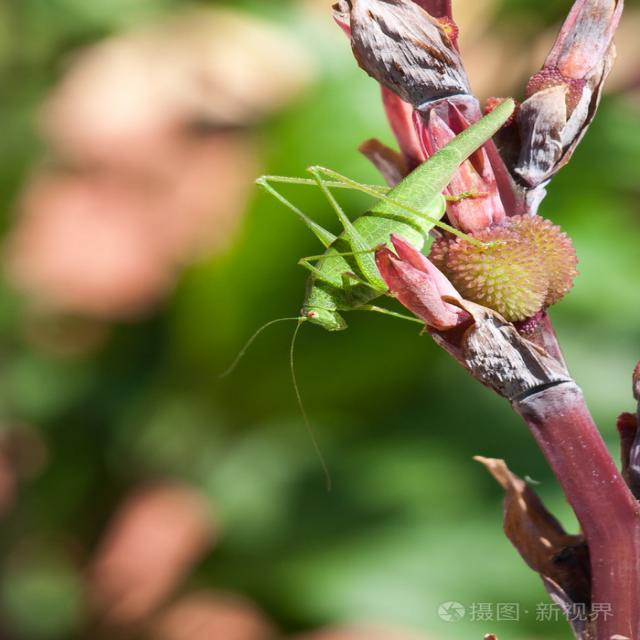ZhaMeng: (211, 99, 527, 378)
